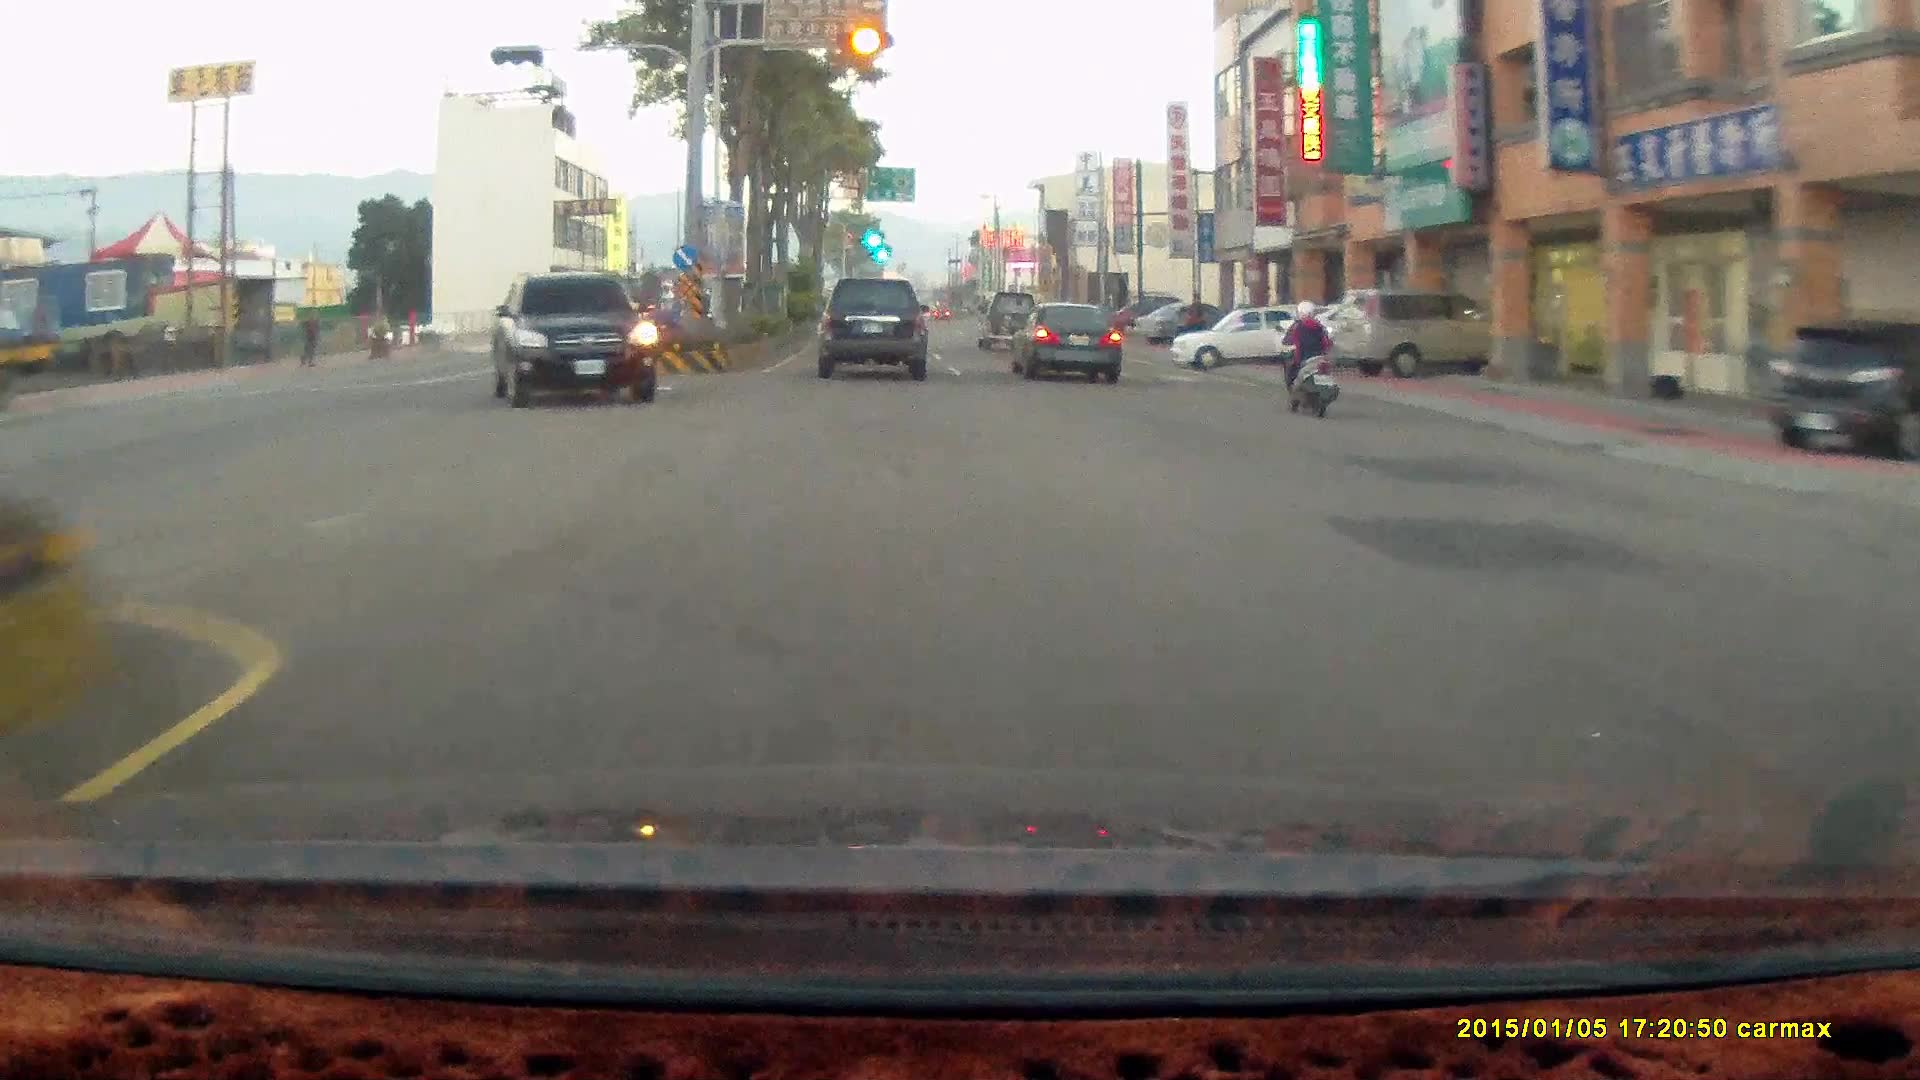pedestrian: (294, 305, 319, 360), (1183, 289, 1207, 347)
rider: (1268, 292, 1347, 421), (1275, 297, 1337, 415)
vehicle: (1754, 314, 1919, 460), (1761, 318, 1920, 463), (488, 270, 657, 404), (489, 271, 657, 405), (1331, 287, 1509, 377), (1335, 290, 1504, 381), (1280, 296, 1451, 371), (823, 274, 934, 378), (816, 275, 926, 379), (1172, 304, 1328, 375), (1168, 303, 1324, 369), (1008, 300, 1130, 381), (1007, 297, 1121, 379), (1135, 299, 1231, 343), (975, 289, 1043, 347), (1109, 298, 1191, 336)
